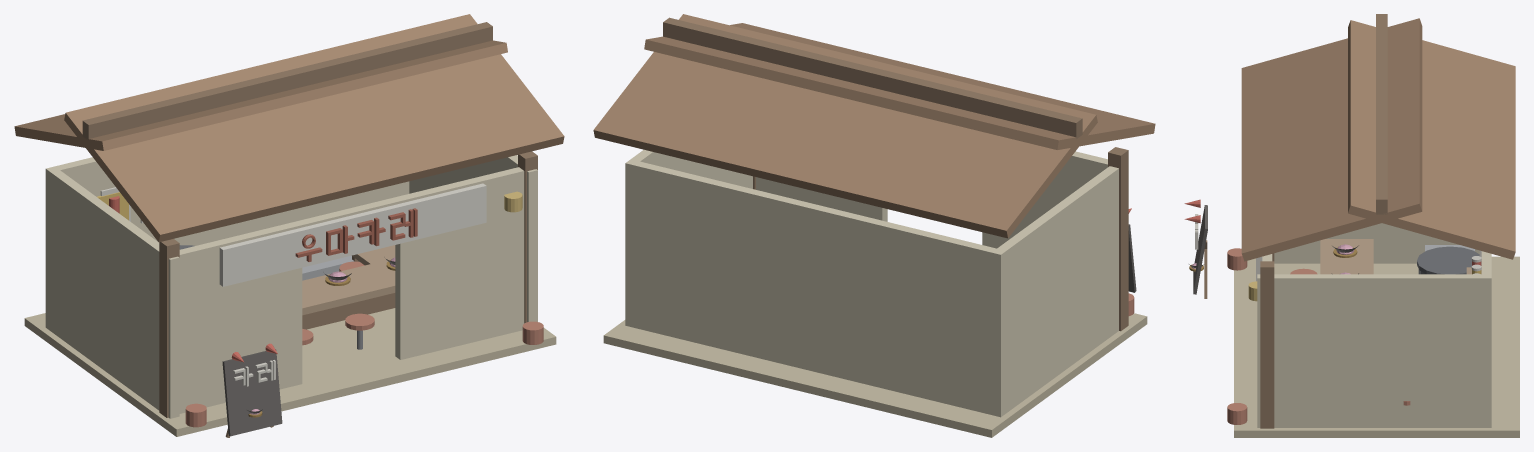
The model's file is curry.glb.
The picture shows the model from 3 angles, left to right: view 1: azimuth 30°, elevation 25°; view 2: azimuth 150°, elevation 25°; view 3: azimuth 270°, elevation 25°; orthographic projection. The views are drawn at different scales.
Parts seen in each view (by area): view 1: part_20, part_09, part_14, part_05, part_22, part_00, part_11, part_07, part_12, part_10; view 2: part_20, part_09, part_14, part_05; view 3: part_09, part_20, part_14, part_05, part_11, part_01, part_12, part_00.
Part boxes in pixels (x1,y1,x2,y2): part_20: (45, 155, 537, 418); part_09: (14, 14, 564, 242); part_14: (24, 308, 556, 436); part_05: (82, 22, 537, 437); part_22: (100, 183, 486, 386); part_00: (222, 257, 395, 436); part_11: (302, 245, 395, 315); part_07: (295, 208, 417, 261); part_12: (185, 261, 543, 427); part_10: (302, 255, 354, 280); part_20: (625, 149, 1118, 417); part_09: (593, 14, 1155, 238); part_14: (603, 313, 1147, 437); part_05: (663, 17, 1128, 331); part_09: (1241, 18, 1515, 261); part_20: (1257, 223, 1491, 427); part_14: (1234, 256, 1519, 437); part_05: (1204, 14, 1387, 428); part_11: (1320, 239, 1481, 274); part_01: (1417, 246, 1479, 274); part_12: (1227, 248, 1410, 424); part_00: (1189, 205, 1358, 294).
Bounding box in the file's own units: 13.2 × 8.11 × 10.1.
